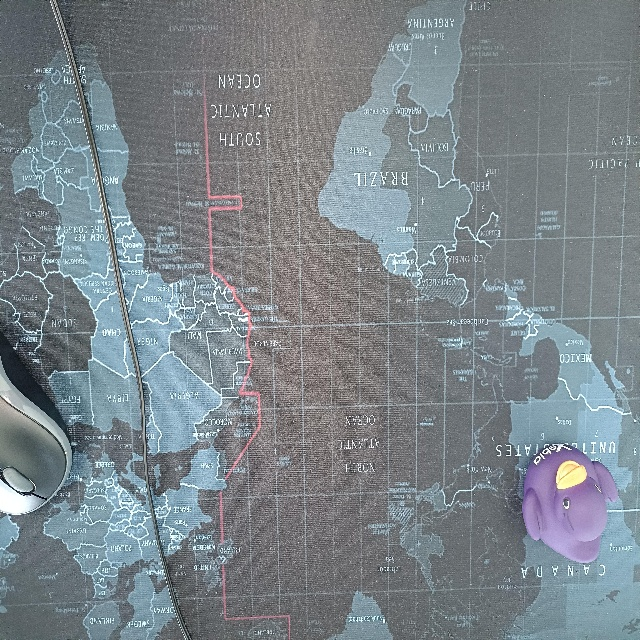led: (405, 260, 530, 480), (395, 360, 420, 575)
